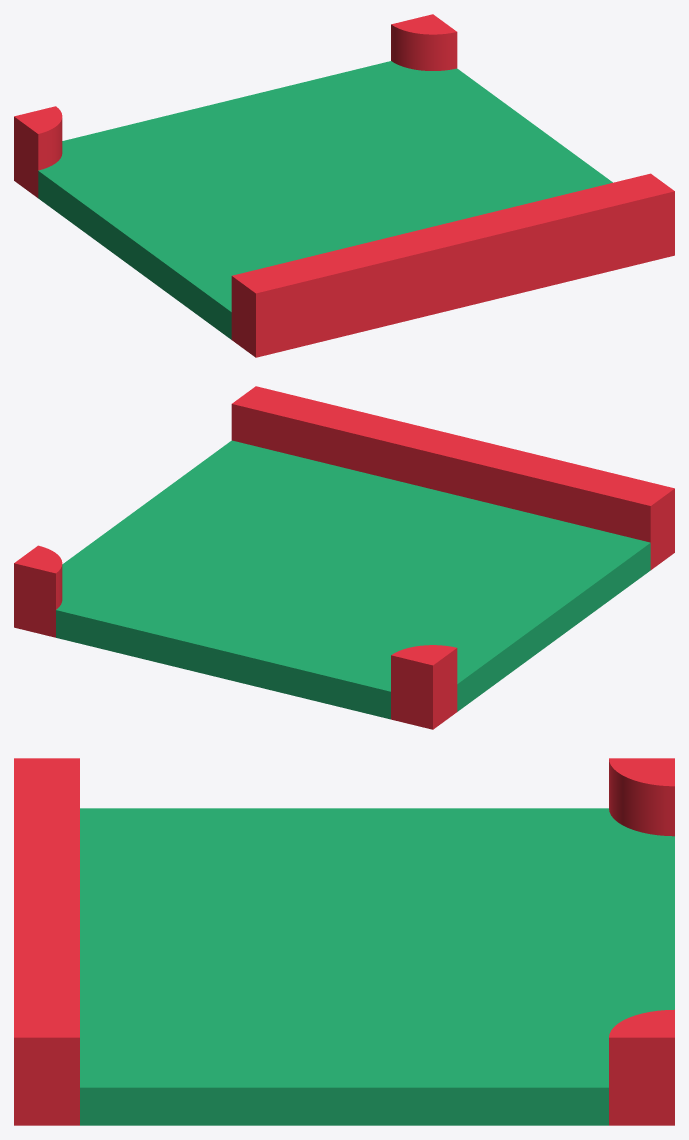
The model's file is splitT.fbx.
The picture shows the model from 3 angles, top to bottom: view 1: azimuth 30°, elevation 25°; view 2: azimuth 150°, elevation 25°; view 3: azimuth 270°, elevation 25°; orthographic projection. The views are drawn at different scales.
Parts seen in each view (by area): view 1: splitT; view 2: splitT; view 3: splitT.
Boxes of the visible parts, x1,y1,x2,y2 form: splitT: (14, 14, 674, 357); splitT: (14, 386, 674, 729); splitT: (14, 758, 674, 1125).
Size of the model in its own units: 10 by 1.47 by 10.
